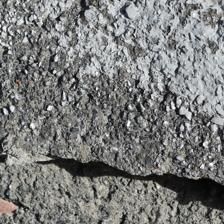Crack: (4, 67, 217, 144)
